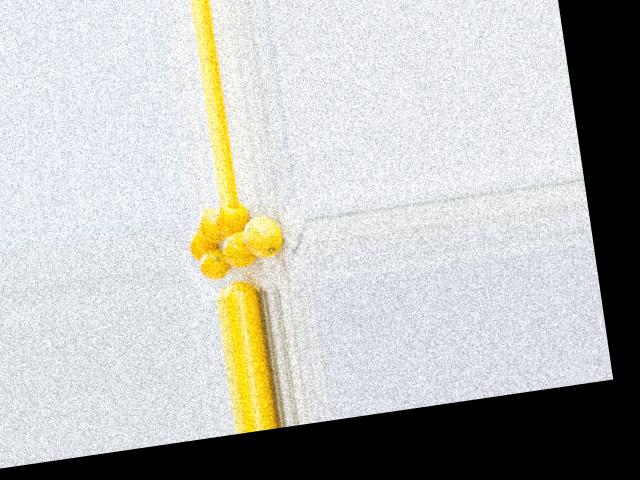lemon: (237, 209, 285, 267)
